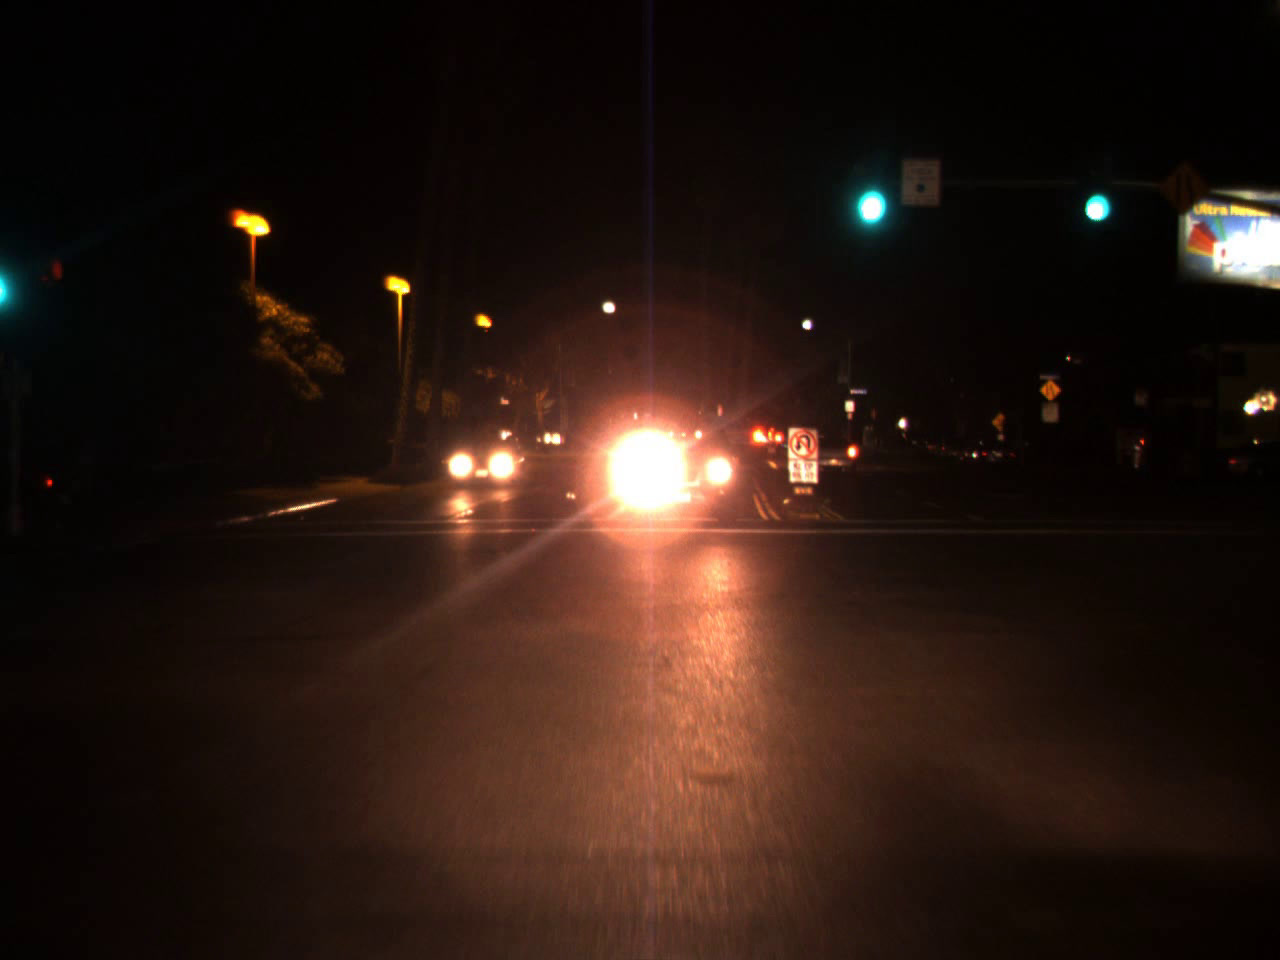go: (847, 150, 888, 237), (1075, 160, 1114, 232)
